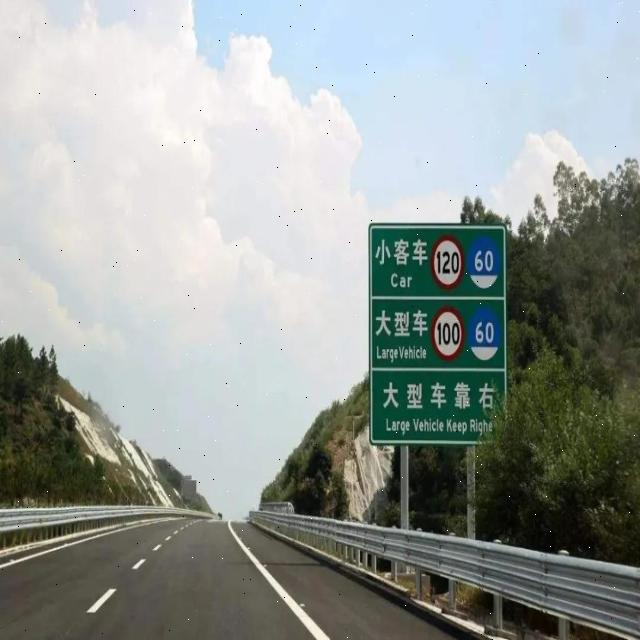speed limit 100: (432, 306, 467, 361)
speed limit 120: (431, 234, 465, 290)
speed limit 60: (467, 306, 501, 359), (468, 236, 501, 290)
